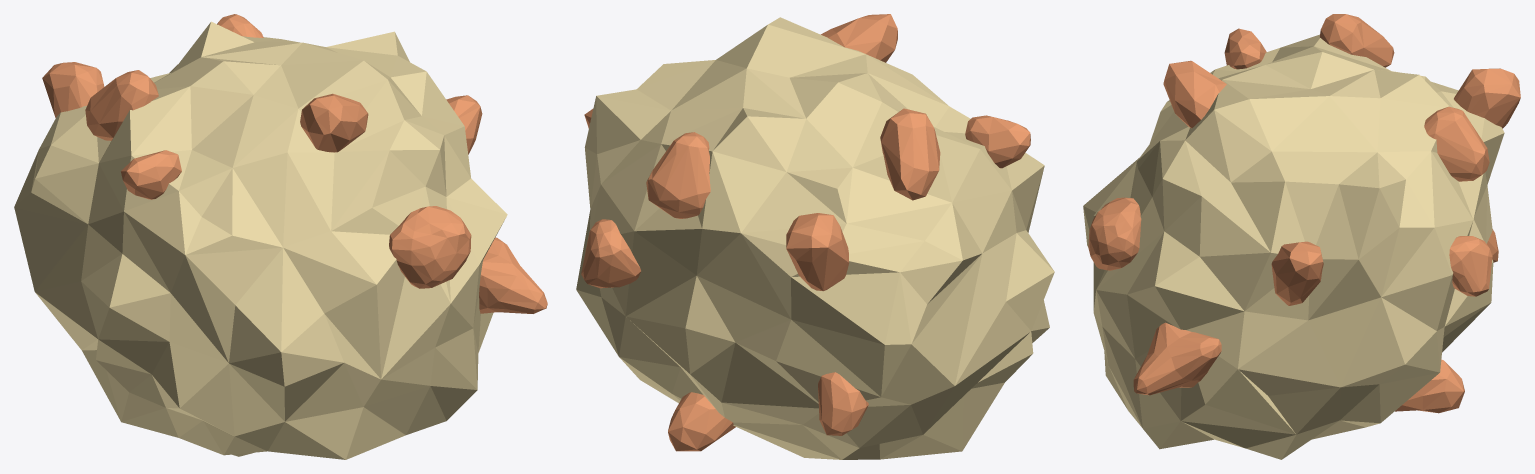
File: StoneOre (57).fbx
3 renders of one model, left to right at view 1: azimuth 30°, elevation 25°; view 2: azimuth 150°, elevation 25°; view 3: azimuth 270°, elevation 25°, orthographic. The views are drawn at different scales.
Parts seen in each view (by area): view 1: Asteroid344; view 2: Asteroid344; view 3: Asteroid344.
Part boxes in pixels (x1,y1,x2,y2): Asteroid344: (14,14,547,459); Asteroid344: (576,14,1054,459); Asteroid344: (1083,14,1520,459).
Bounding box in the file's own units: 584 × 509 × 552.
